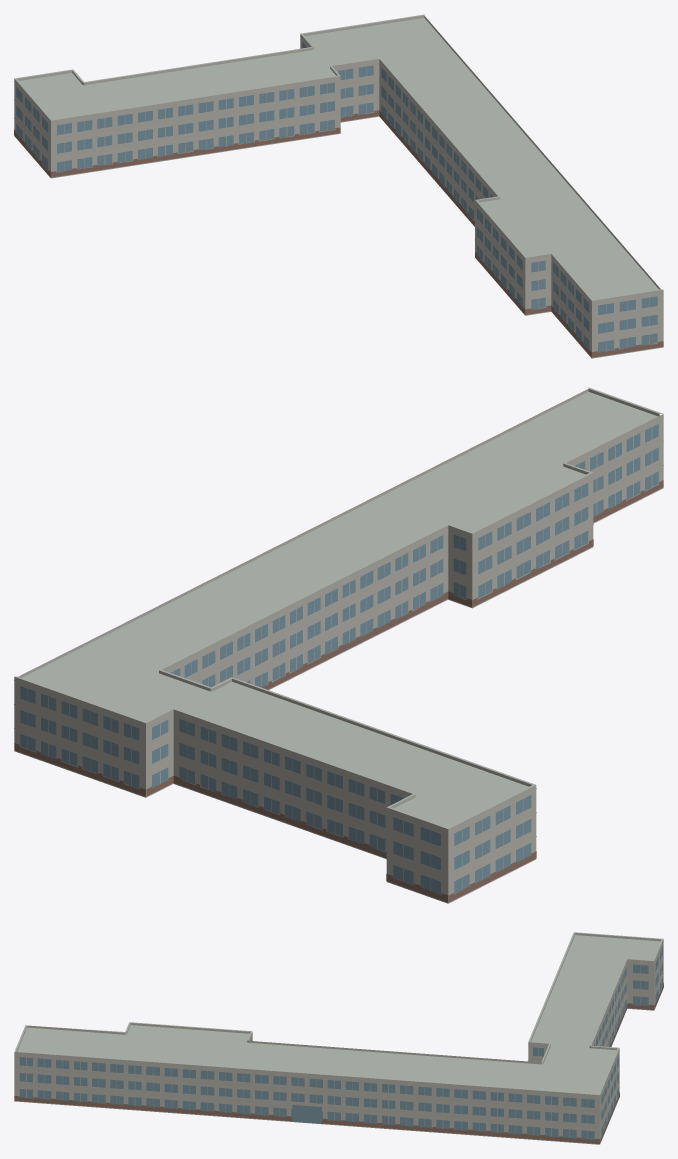
The model's file is public-e465061d-2067-471d-95de-636d6da42d4c.glb.
3 renders of one model, top to bottom at view 1: azimuth 30°, elevation 25°; view 2: azimuth 150°, elevation 25°; view 3: azimuth 270°, elevation 25°, orthographic. The views are drawn at different scales.
Visible parts, largest first — view 1: public-e465061d-2067-471d-95de-636d6da42d4c; view 2: public-e465061d-2067-471d-95de-636d6da42d4c; view 3: public-e465061d-2067-471d-95de-636d6da42d4c.
Boxes of the visible parts, x1,y1,x2,y2 form: public-e465061d-2067-471d-95de-636d6da42d4c: (14, 14, 663, 358); public-e465061d-2067-471d-95de-636d6da42d4c: (14, 387, 663, 903); public-e465061d-2067-471d-95de-636d6da42d4c: (14, 932, 663, 1144).
Bounding box in the file's own units: 64.65 × 9.15 × 109.
